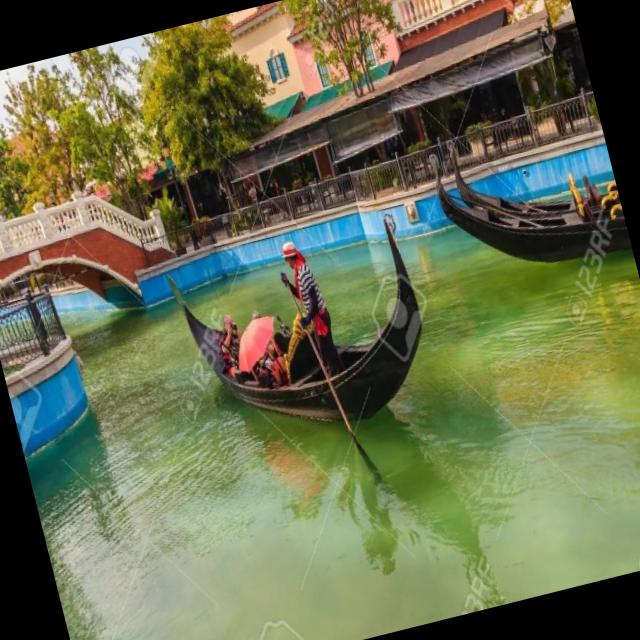boat: (153, 188, 468, 470), (407, 97, 634, 304)
